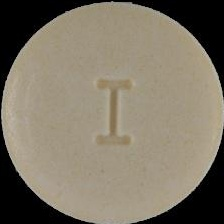50268-090: (0, 0, 224, 224)
